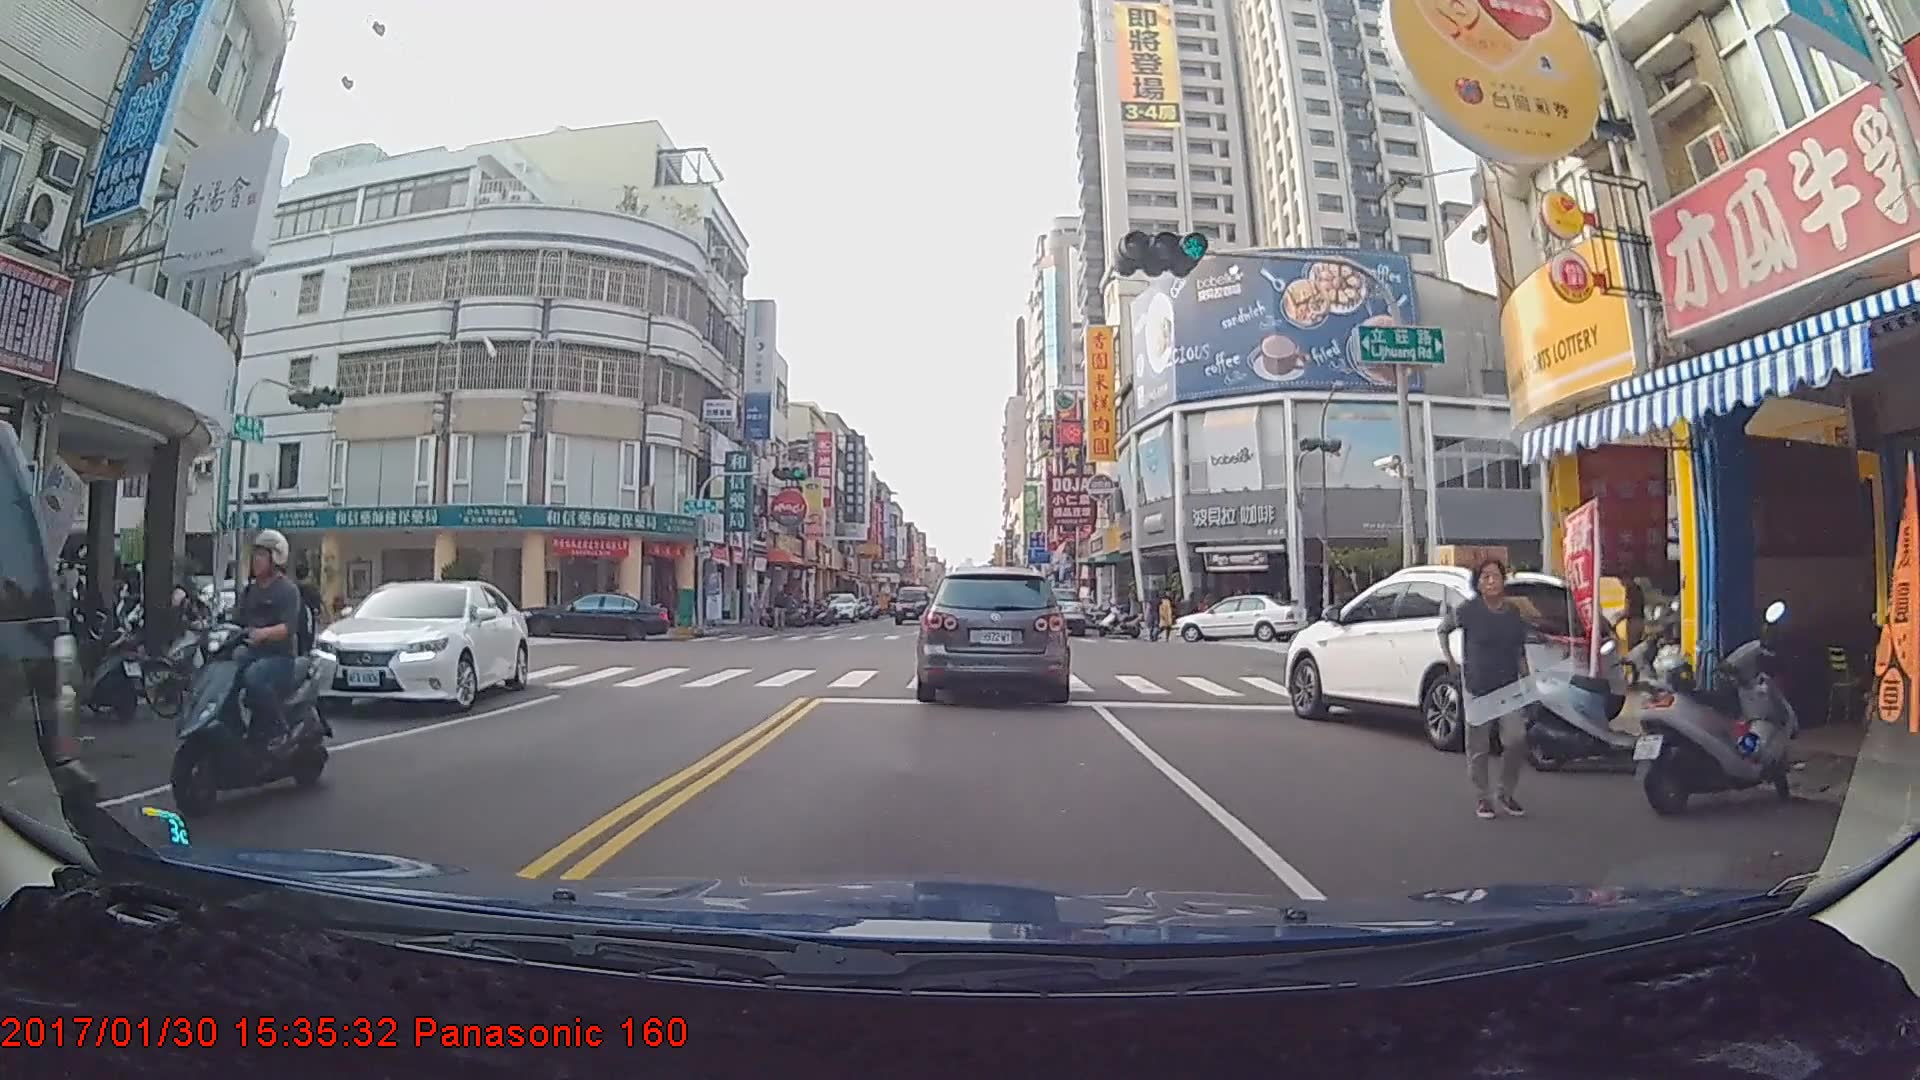pedestrian: (1442, 556, 1545, 824), (280, 560, 328, 694), (1157, 590, 1177, 644), (773, 586, 793, 632)
rider: (175, 520, 341, 806)
vehicle: (1281, 560, 1625, 749), (303, 577, 528, 714), (917, 565, 1067, 702), (520, 587, 671, 640), (1171, 591, 1309, 642), (1025, 583, 1086, 635), (891, 583, 931, 622), (817, 590, 859, 620)
